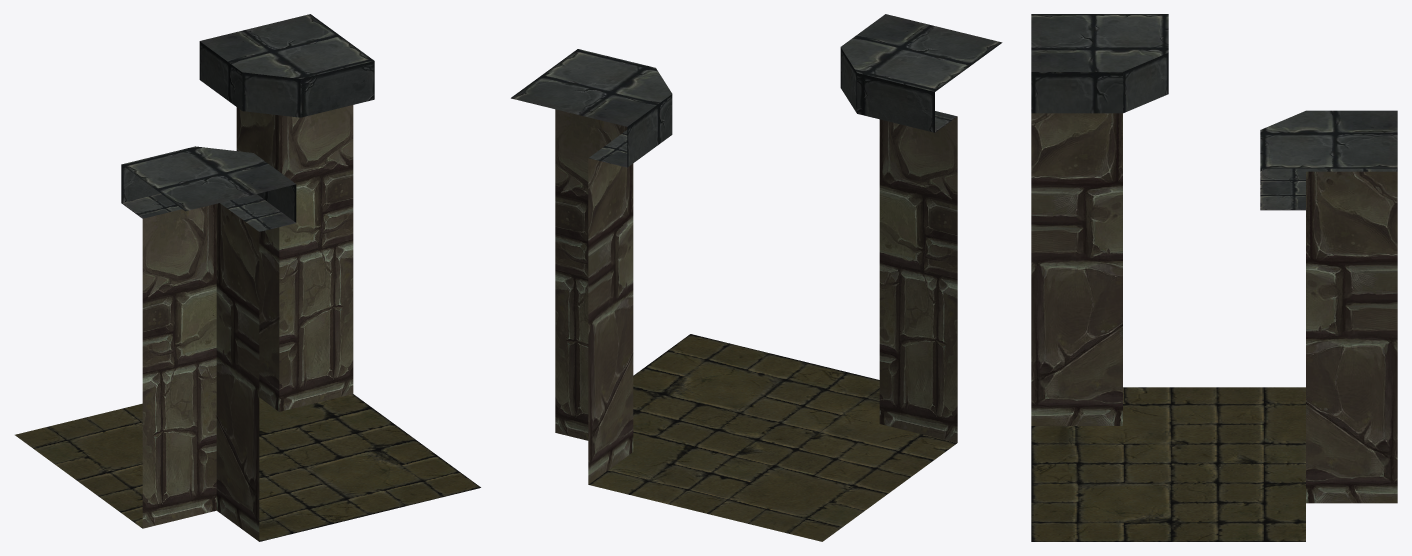
Rendered from two_pillars_tile_002.FBX.
3 renders of one model, left to right at view 1: azimuth 30°, elevation 25°; view 2: azimuth 150°, elevation 25°; view 3: azimuth 270°, elevation 25°, orthographic. The views are drawn at different scales.
Visible parts, largest first — view 1: pole002; view 2: pole002; view 3: pole002.
Boxes of the visible parts, <box> form: pole002: <box>15,14,480,541</box>; pole002: <box>511,14,1002,541</box>; pole002: <box>1031,14,1397,541</box>.
Bounding box in the file's own units: 40 × 45 × 40.
Materials: 1 (1 with a texture image).
